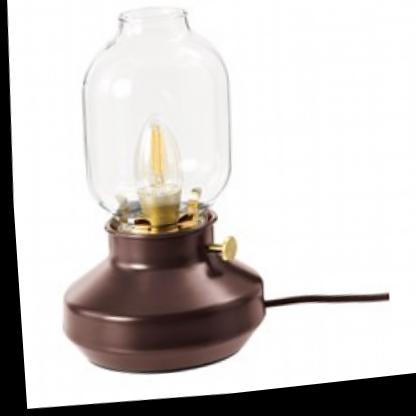Lamp: (24, 0, 285, 397)
